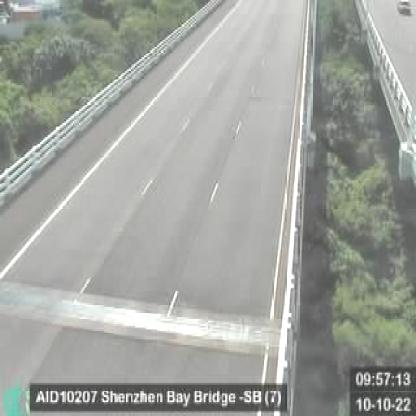Car: (398, 1, 413, 15)
